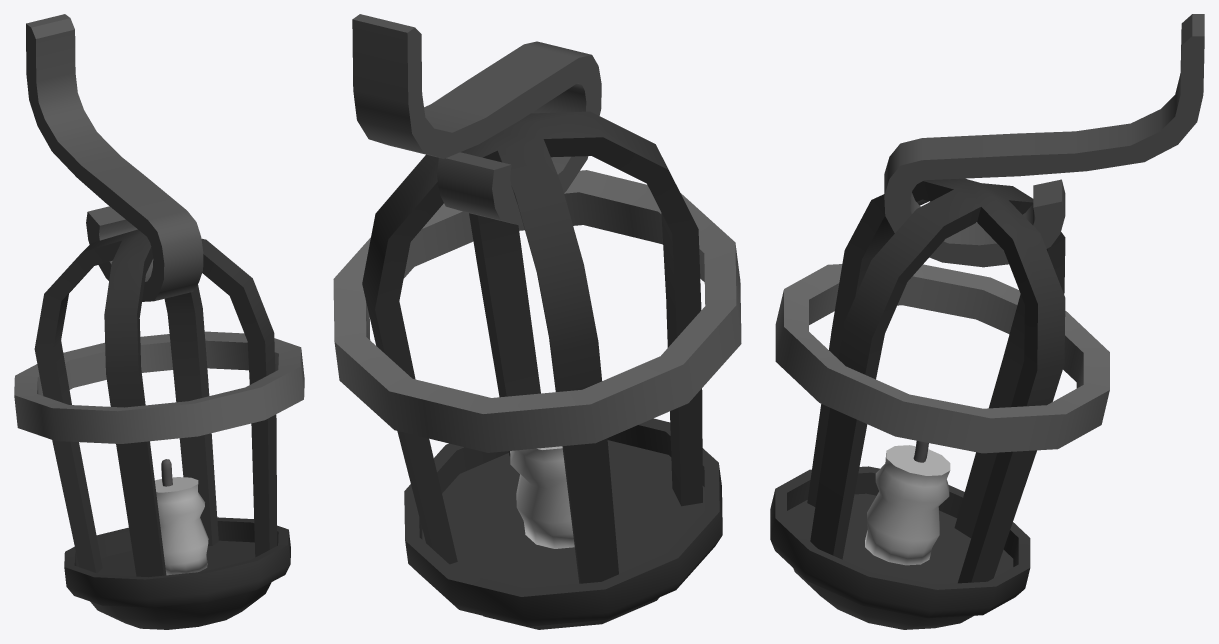
Rendered from lantern-01.glb.
3 renders of one model, left to right at view 1: azimuth 30°, elevation 25°; view 2: azimuth 150°, elevation 25°; view 3: azimuth 270°, elevation 25°, orthographic. The views are drawn at different scales.
Visible parts, largest first — view 1: Plane.009; view 2: Plane.009; view 3: Plane.009.
Boxes of the visible parts, x1,y1,x2,y2 form: Plane.009: [14, 14, 304, 629]; Plane.009: [333, 14, 741, 629]; Plane.009: [770, 14, 1204, 629].
Bounding box in the file's own units: 0.3004 × 0.5829 × 0.3917.
1 material, 1 textured.
